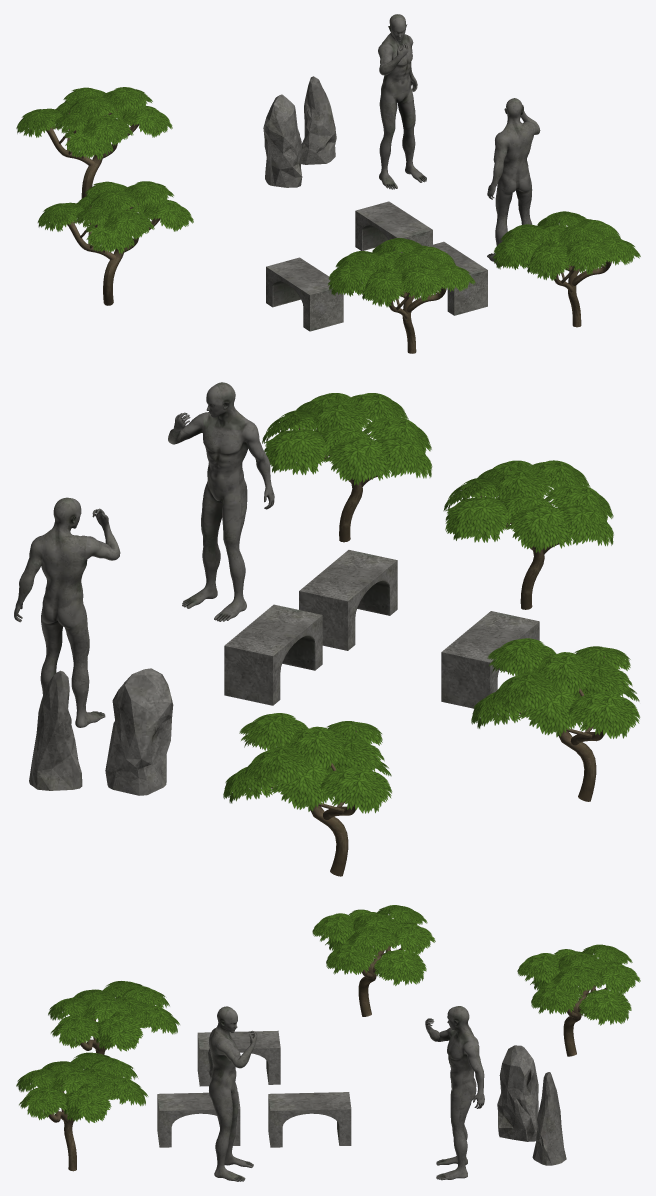
The model's file is world.glb.
The picture shows the model from 3 angles, top to bottom: view 1: azimuth 30°, elevation 25°; view 2: azimuth 150°, elevation 25°; view 3: azimuth 270°, elevation 25°; orthographic projection. The views are drawn at different scales.
Visible parts, largest first — view 1: TreeB_M_Tree_Wood_0.001, TreeA_M_Tree_Wood_0.001, TreeA_M_Tree_Wood_0.002, TreeB_M_Tree_Wood_0.002, Stone_Statue_PoseC_M_Stone1_0.002, Stone_Statue_PoseC_M_Stone1_0.003, Stone_Bridge_Arch_M_Stone2_0.003, Tall_RockC_M_Stone2_0.001, Stone_Bridge_Arch_M_Stone2_0.002, Tall_RockA_M_Stone2_0.001, Stone_Bridge_Arch_M_Stone2_0.001; view 2: TreeB_M_Tree_Wood_0.001, TreeB_M_Tree_Wood_0.002, TreeA_M_Tree_Wood_0.002, TreeA_M_Tree_Wood_0.001, Stone_Statue_PoseC_M_Stone1_0.003, Stone_Statue_PoseC_M_Stone1_0.002, Stone_Bridge_Arch_M_Stone2_0.002, Tall_RockC_M_Stone2_0.001, Stone_Bridge_Arch_M_Stone2_0.001, Stone_Bridge_Arch_M_Stone2_0.003, Tall_RockA_M_Stone2_0.001; view 3: TreeB_M_Tree_Wood_0.001, TreeB_M_Tree_Wood_0.002, TreeA_M_Tree_Wood_0.001, TreeA_M_Tree_Wood_0.002, Stone_Statue_PoseC_M_Stone1_0.002, Stone_Statue_PoseC_M_Stone1_0.003, Tall_RockC_M_Stone2_0.001, Stone_Bridge_Arch_M_Stone2_0.002, Stone_Bridge_Arch_M_Stone2_0.003, Tall_RockA_M_Stone2_0.001, Stone_Bridge_Arch_M_Stone2_0.001.
Part boxes in pixels (left/top/right/bottom): TreeB_M_Tree_Wood_0.001: left=37, top=181, right=193, bottom=305; TreeA_M_Tree_Wood_0.001: left=493, top=211, right=640, bottom=327; TreeA_M_Tree_Wood_0.002: left=328, top=238, right=475, bottom=353; TreeB_M_Tree_Wood_0.002: left=16, top=87, right=172, bottom=198; Stone_Statue_PoseC_M_Stone1_0.002: left=378, top=14, right=426, bottom=189; Stone_Statue_PoseC_M_Stone1_0.003: left=487, top=98, right=540, bottom=265; Stone_Bridge_Arch_M_Stone2_0.003: left=266, top=257, right=343, bottom=331; Tall_RockC_M_Stone2_0.001: left=263, top=94, right=302, bottom=187; Stone_Bridge_Arch_M_Stone2_0.002: left=355, top=201, right=432, bottom=252; Tall_RockA_M_Stone2_0.001: left=301, top=76, right=336, bottom=164; Stone_Bridge_Arch_M_Stone2_0.001: left=428, top=241, right=487, bottom=315; TreeB_M_Tree_Wood_0.001: left=471, top=638, right=640, bottom=801; TreeB_M_Tree_Wood_0.002: left=223, top=713, right=392, bottom=876; TreeA_M_Tree_Wood_0.002: left=443, top=460, right=613, bottom=609; TreeA_M_Tree_Wood_0.001: left=262, top=393, right=432, bottom=542; Stone_Statue_PoseC_M_Stone1_0.003: left=168, top=382, right=274, bottom=621; Stone_Statue_PoseC_M_Stone1_0.002: left=14, top=497, right=120, bottom=727; Stone_Bridge_Arch_M_Stone2_0.002: left=224, top=604, right=322, bottom=705; Tall_RockC_M_Stone2_0.001: left=105, top=668, right=173, bottom=795; Stone_Bridge_Arch_M_Stone2_0.001: left=299, top=550, right=397, bottom=650; Stone_Bridge_Arch_M_Stone2_0.003: left=441, top=611, right=539, bottom=708; Tall_RockA_M_Stone2_0.001: left=29, top=670, right=82, bottom=790; TreeB_M_Tree_Wood_0.001: left=312, top=905, right=435, bottom=1016; TreeB_M_Tree_Wood_0.002: left=517, top=944, right=640, bottom=1056; TreeA_M_Tree_Wood_0.001: left=16, top=1052, right=148, bottom=1171; TreeA_M_Tree_Wood_0.002: left=48, top=981, right=179, bottom=1054; Stone_Statue_PoseC_M_Stone1_0.002: left=425, top=1006, right=484, bottom=1180; Stone_Statue_PoseC_M_Stone1_0.003: left=208, top=1006, right=257, bottom=1181; Tall_RockC_M_Stone2_0.001: left=497, top=1045, right=538, bottom=1141; Stone_Bridge_Arch_M_Stone2_0.002: left=268, top=1092, right=351, bottom=1147; Stone_Bridge_Arch_M_Stone2_0.003: left=197, top=1030, right=280, bottom=1086; Tall_RockA_M_Stone2_0.001: left=532, top=1072, right=566, bottom=1165; Stone_Bridge_Arch_M_Stone2_0.001: left=157, top=1092, right=240, bottom=1147.
Size of what is drawn, in the model's own units: 8.12 by 3.16 by 10.28.
15 materials, 15 textured.
